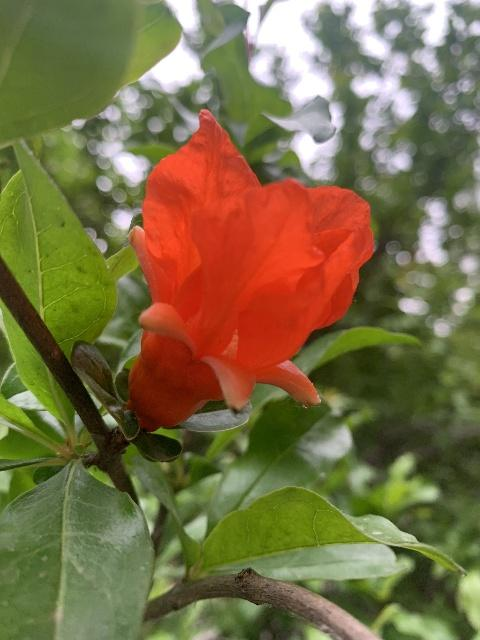flower: (126, 106, 375, 429)
